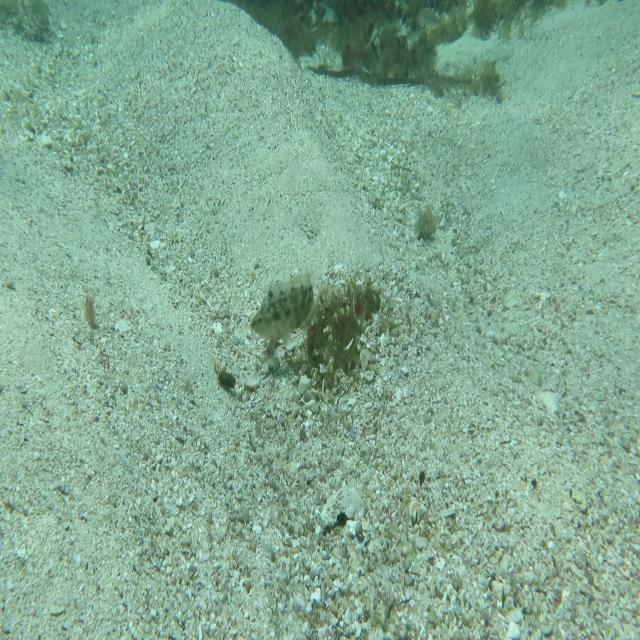SPA: (248, 264, 316, 350)
nest: (278, 262, 387, 394)
vegetation: (295, 38, 488, 92), (245, 0, 524, 36), (0, 0, 55, 42), (214, 350, 240, 406), (412, 199, 440, 246), (84, 281, 100, 334)
